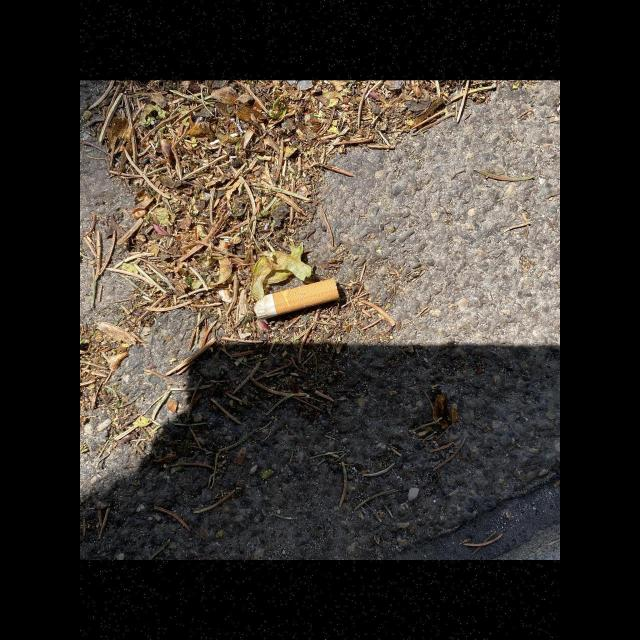cigarette: (252, 278, 341, 320)
